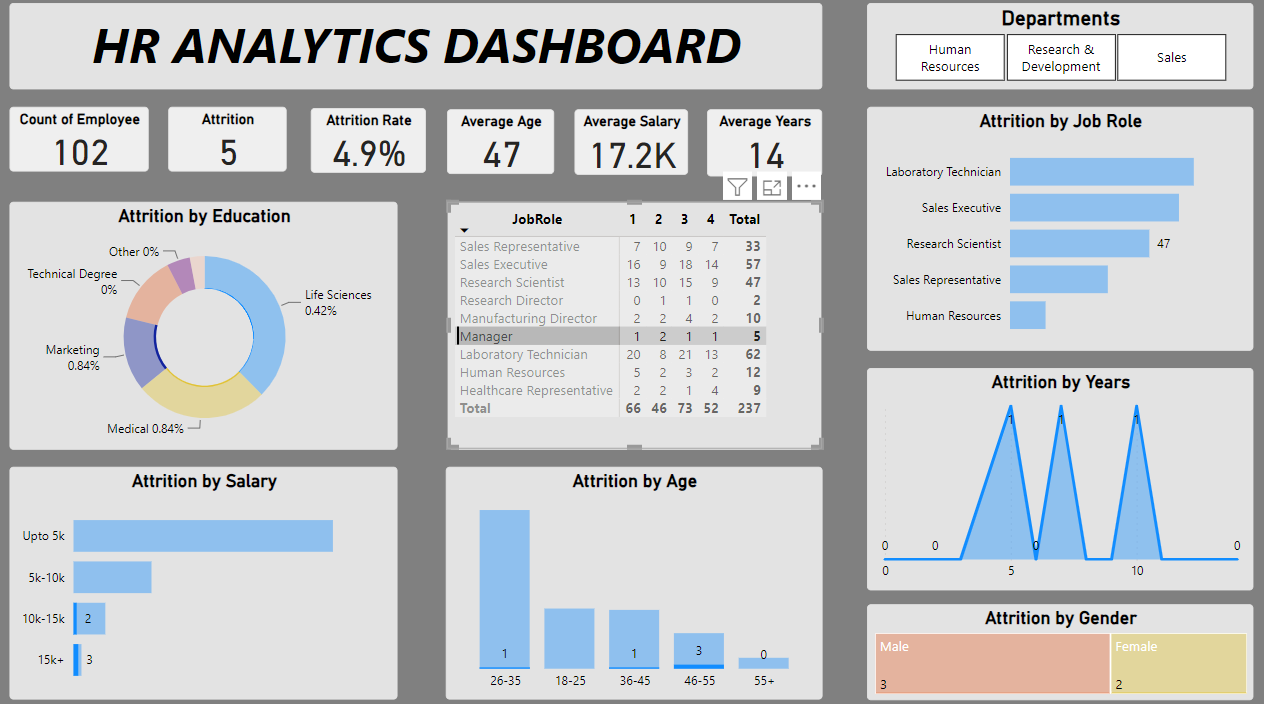

The dashboard page shown, as its layout file describes it:
{"tool":"powerbi","page":{"name":"Page 1","canvas":[1280,720],"ordinal":0},"visuals":[{"type":"card","title":"Count of Employee","fields":{"Values":["CountNonNull(HR_Analytics.EmpID)"]},"box":[17,113.8,139.4,64.9],"z":0},{"type":"card","title":"Attrition","fields":{"Values":["Sum(HR_Analytics.AttritionCount)"]},"box":[176.6,113.8,118.1,64.9],"z":1000},{"type":"card","title":"Attrition Rate","fields":{"Values":["HR_Analytics.AttritionRate"]},"box":[319.1,114.9,114.9,64.9],"z":2000},{"type":"card","title":"Average Age ","fields":{"Values":["Avg(HR_Analytics.Age)"]},"box":[455.3,116,107.4,64.9],"z":3000},{"type":"card","title":"Average Salary","fields":{"Values":["Avg(HR_Analytics.MonthlyIncome)"]},"box":[583,116,113.8,66],"z":4000},{"type":"card","title":"Average Years ","fields":{"Values":["Avg(HR_Analytics.YearsAtCompany)"]},"box":[714.9,116,114.9,67],"z":5000},{"type":"donutChart","title":"Attrition by Education","fields":{"Category":["HR_Analytics.EducationField"],"Y":["Sum(HR_Analytics.AttritionCount)"]},"box":[17,208.5,388.3,247.9],"z":6000},{"type":"columnChart","title":"Attrition by Age","fields":{"Category":["HR_Analytics.AgeGroup"],"Y":["Sum(HR_Analytics.AttritionCount)"]},"box":[453.2,473.4,376.6,233],"z":7000},{"type":"pivotTable","fields":{"Rows":["HR_Analytics.JobRole"],"Columns":["HR_Analytics.JobSatisfaction"],"Values":["Sum(HR_Analytics.AttritionCount)"]},"box":[455.3,208.5,374.5,247.9],"z":8000},{"type":"barChart","title":"Attrition by Salary","fields":{"Category":["HR_Analytics.SalarySlab"],"Y":["Sum(HR_Analytics.AttritionCount)"]},"box":[17,473.4,388.3,233],"z":9000},{"type":"barChart","title":"Attrition by Job Role","fields":{"Category":["HR_Analytics.JobRole"],"Y":["Sum(HR_Analytics.AttritionCount)"]},"box":[875.5,113.8,386.2,243.6],"z":10000},{"type":"areaChart","title":"Attrition by Years","fields":{"Category":["HR_Analytics.YearsAtCompany"],"Y":["Sum(HR_Analytics.AttritionCount)"]},"box":[875,375,386.2,222.5],"z":11000},{"type":"treemap","title":"Attrition by Gender","fields":{"Group":["HR_Analytics.Gender"],"Values":["Sum(HR_Analytics.AttritionCount)"]},"box":[875.5,610.6,386.2,95.7],"z":12000},{"type":"slicer","title":"Departments","fields":{"Values":["HR_Analytics.Department"]},"box":[875.5,9.6,386.2,86.2],"z":13000},{"type":"textbox","box":[17,9.6,812.8,86.2],"z":14000}]}

Visuals, with their boxes in screenshot pixels (x1, y1, x2, y2), scaled from the page's 1280x720 canvas onto the 1264x704 screenshot:
"Count of Employee" card: {"left": 17, "top": 111, "right": 154, "bottom": 175}
"Attrition" card: {"left": 174, "top": 111, "right": 291, "bottom": 175}
"Attrition Rate" card: {"left": 315, "top": 112, "right": 429, "bottom": 176}
"Average Age " card: {"left": 450, "top": 113, "right": 556, "bottom": 177}
"Average Salary" card: {"left": 576, "top": 113, "right": 688, "bottom": 178}
"Average Years " card: {"left": 706, "top": 113, "right": 819, "bottom": 179}
"Attrition by Education" donutChart: {"left": 17, "top": 204, "right": 400, "bottom": 446}
"Attrition by Age" columnChart: {"left": 448, "top": 463, "right": 819, "bottom": 691}
pivotTable - HR_Analytics.JobRole x HR_Analytics.JobSatisfaction: {"left": 450, "top": 204, "right": 819, "bottom": 446}
"Attrition by Salary" barChart: {"left": 17, "top": 463, "right": 400, "bottom": 691}
"Attrition by Job Role" barChart: {"left": 865, "top": 111, "right": 1246, "bottom": 349}
"Attrition by Years" areaChart: {"left": 864, "top": 367, "right": 1245, "bottom": 584}
"Attrition by Gender" treemap: {"left": 865, "top": 597, "right": 1246, "bottom": 691}
"Departments" slicer: {"left": 865, "top": 9, "right": 1246, "bottom": 94}
textbox: {"left": 17, "top": 9, "right": 819, "bottom": 94}
